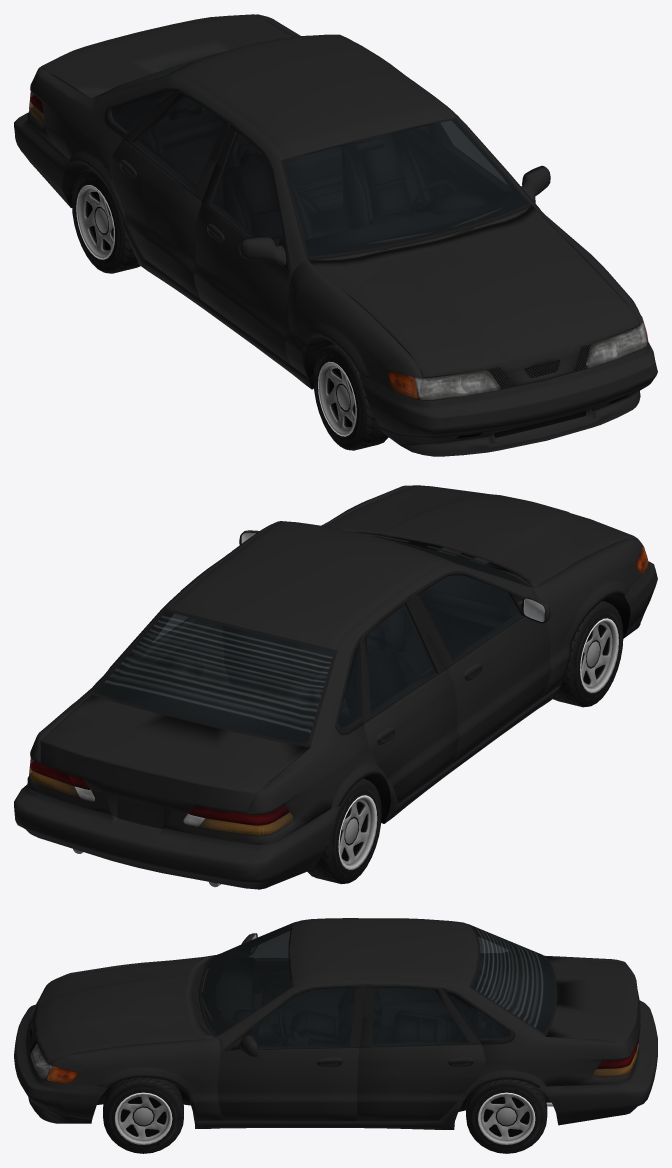
Rendered from veicolo_epoca_berlina_92.glb.
The picture shows the model from 3 angles, top to bottom: view 1: azimuth 30°, elevation 25°; view 2: azimuth 150°, elevation 25°; view 3: azimuth 270°, elevation 25°; orthographic projection. The views are drawn at different scales.
Parts seen in each view (by area): view 1: sb_modello; view 2: sb_modello; view 3: sb_modello.
Boxes of the visible parts, x1,y1,x2,y2 form: sb_modello: [14, 14, 657, 456]; sb_modello: [14, 485, 657, 889]; sb_modello: [14, 918, 657, 1153].
Size of the model in its own units: 2.05 by 1.39 by 4.95.
6 materials, 5 textured.
